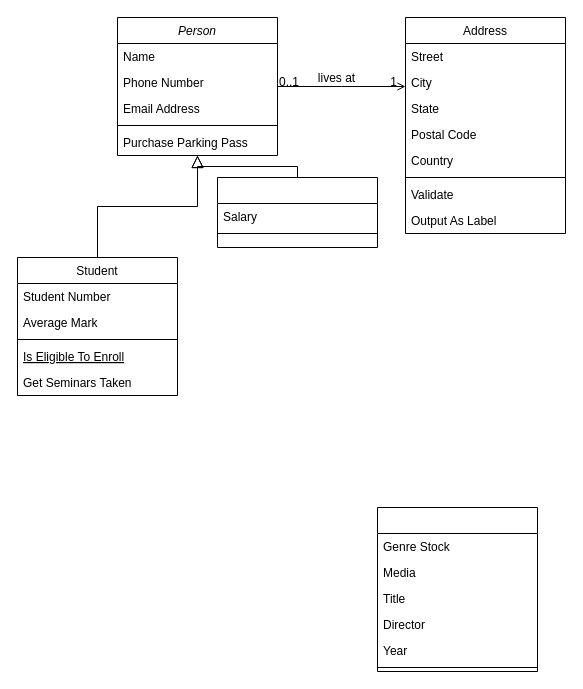
Image size: 583x689. Some labels were removed from this diagram. The box of each missing label's shape, as (x1, y1, x2, y2) in pixels:
Movie: (376, 506, 538, 672)
Professor: (216, 176, 378, 248)
